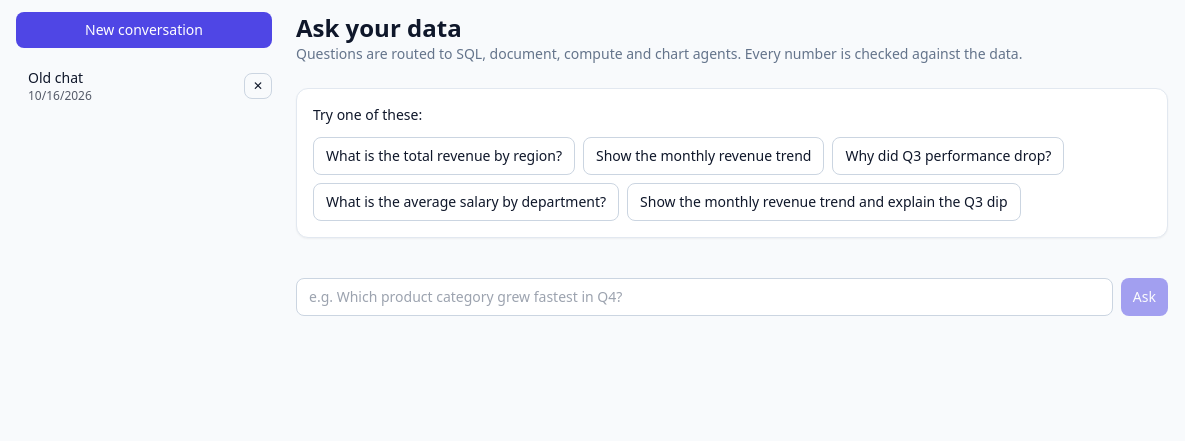
Test case: Ask page › opens a saved chat and renders its turns, including a failed one
Step 1. Click the text "Old chat" → x=56, y=78, box x1=28 y1=68 x2=83 y2=87
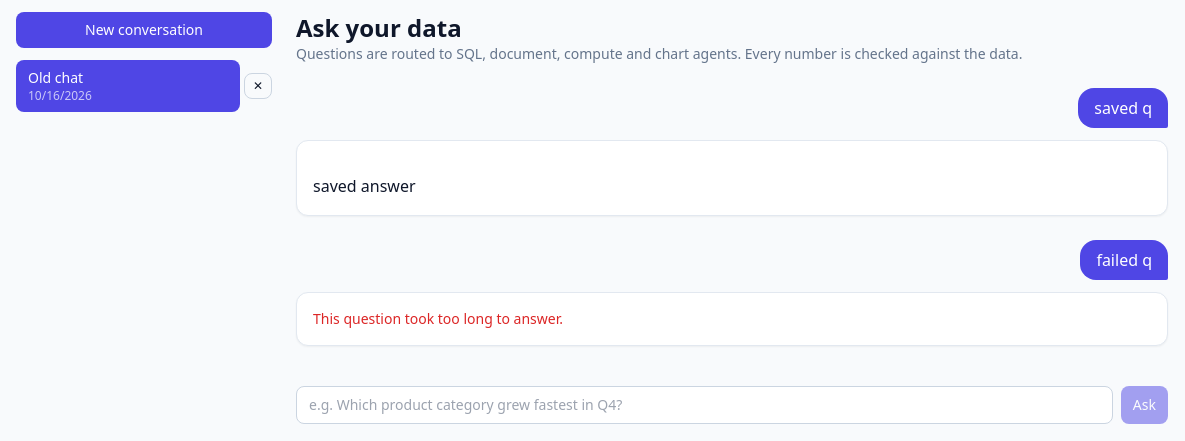
Expected: the text "saved answer" is shown, x1=313 y1=175 x2=416 y2=197
Expected: the text "failed q" is shown, x1=1080 y1=240 x2=1168 y2=280
Expected: the text "This question took too long to answer." is shown, x1=313 y1=309 x2=563 y2=328
